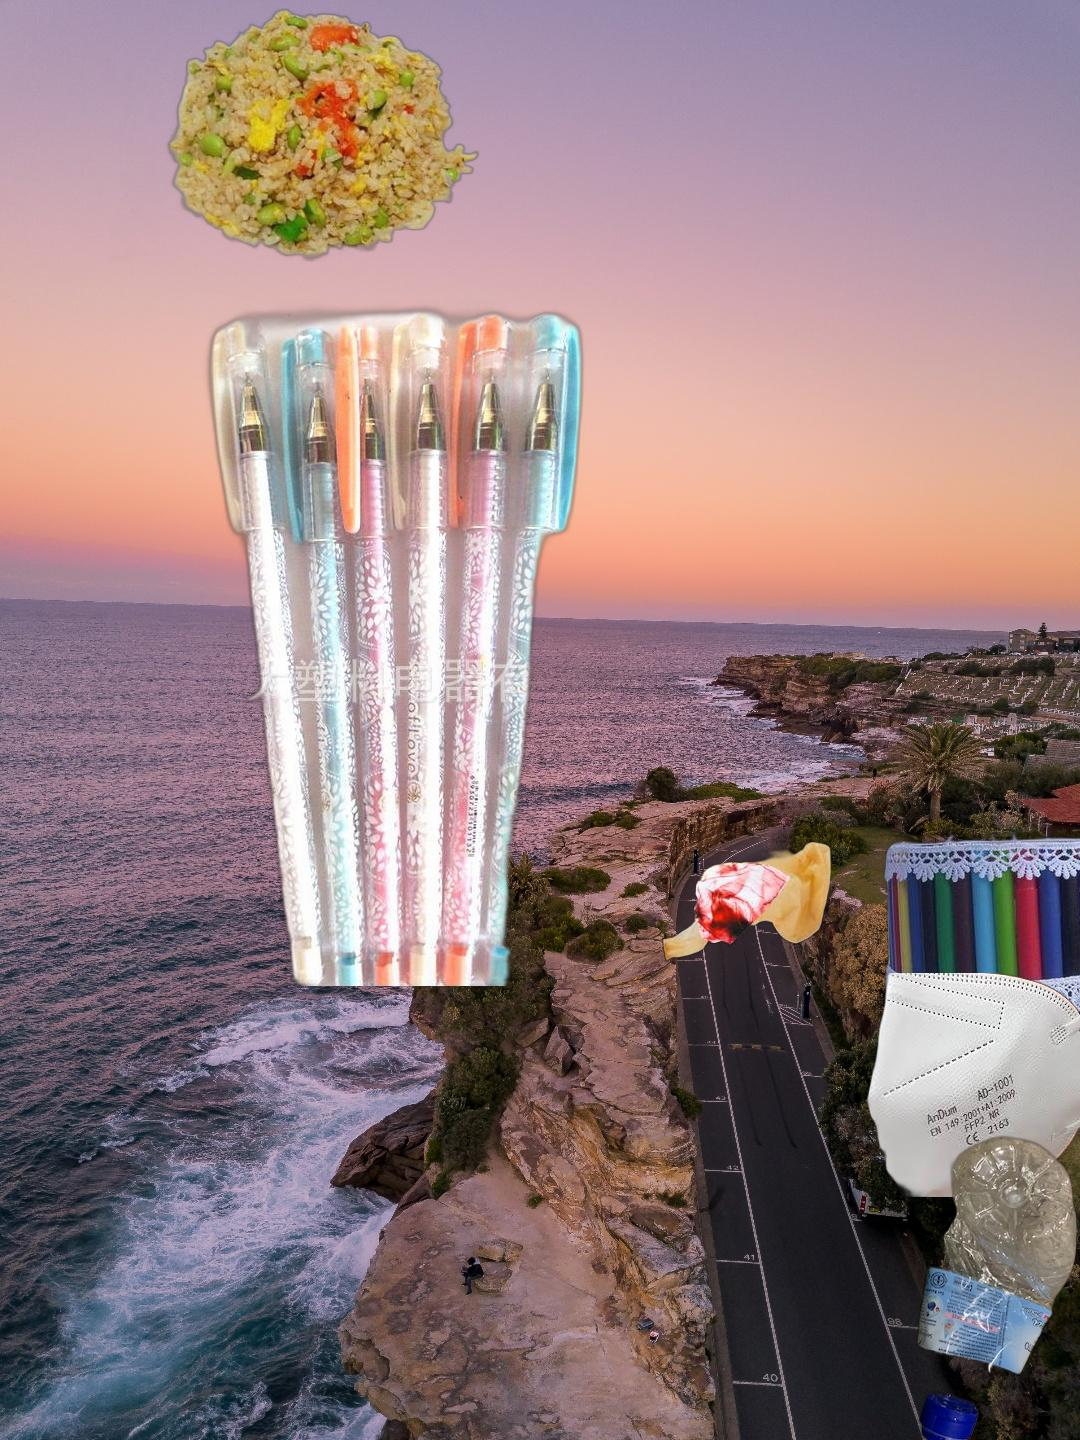biological: (106, 6, 481, 262)
penholder: (202, 299, 589, 986), (880, 832, 1080, 1136), (1016, 1353, 1080, 1440)
plastic-bag: (660, 839, 834, 964)
plastic-bottles: (914, 1133, 1080, 1440)
trash: (861, 973, 1080, 1197)
